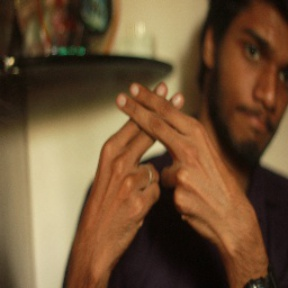F: (88, 69, 227, 183)
